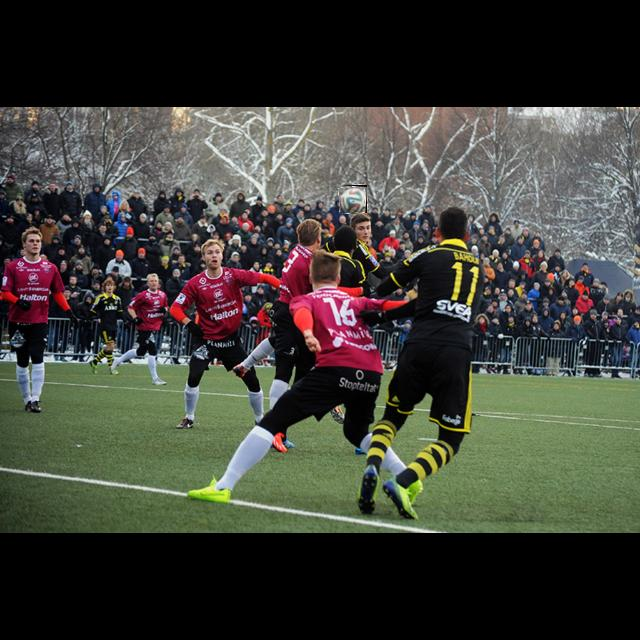Football: (339, 185, 367, 213)
